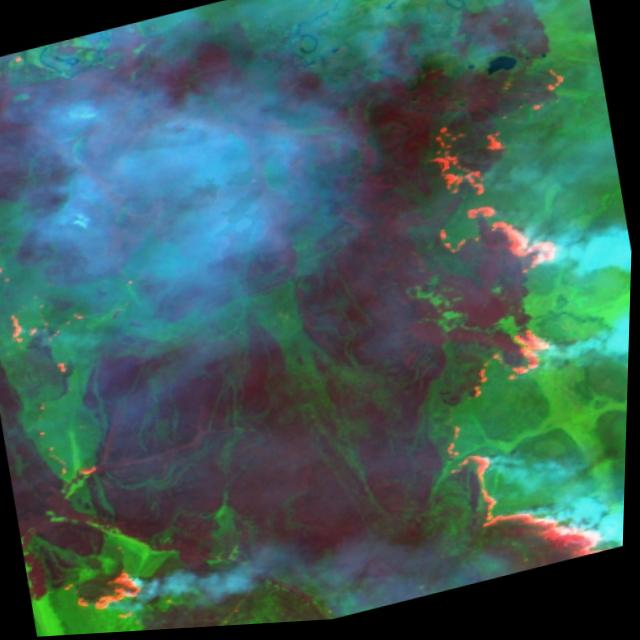fire: (363, 66, 638, 598), (58, 560, 156, 634)
